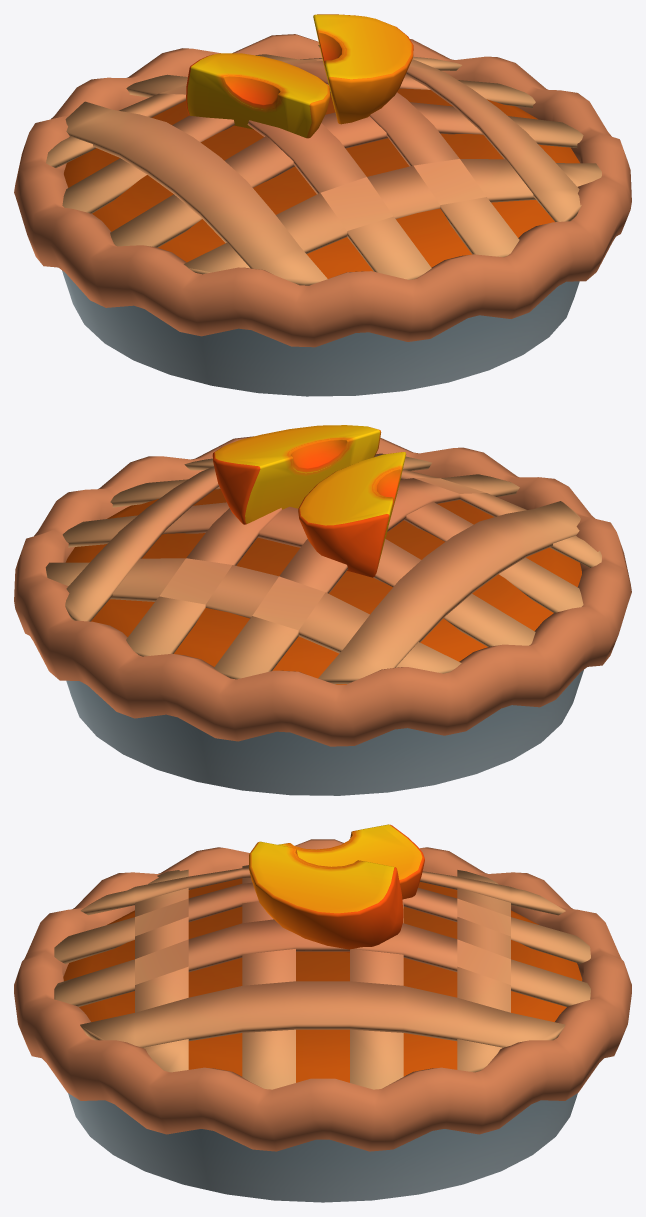
Rendered from Pie_Peach_V1_00.fbx.
3 renders of one model, top to bottom at view 1: azimuth 30°, elevation 25°; view 2: azimuth 150°, elevation 25°; view 3: azimuth 270°, elevation 25°, orthographic.
Parts seen in each view (by area): view 1: Pie_Peach_V1_00; view 2: Pie_Peach_V1_00; view 3: Pie_Peach_V1_00.
Part boxes in pixels (x1=…): Pie_Peach_V1_00: x1=14, y1=14, x2=631, y2=396; Pie_Peach_V1_00: x1=14, y1=425, x2=631, y2=795; Pie_Peach_V1_00: x1=14, y1=824, x2=631, y2=1202.
Bounding box in the file's own units: 99.45 × 43.05 × 99.45.
